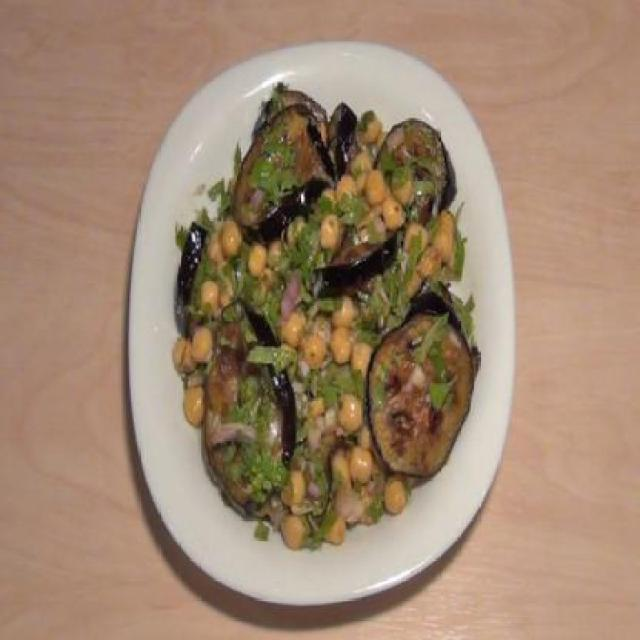eggplant: (235, 84, 452, 291), (364, 290, 484, 479), (203, 299, 297, 524), (169, 215, 208, 332)
hummus: (173, 108, 455, 550)
